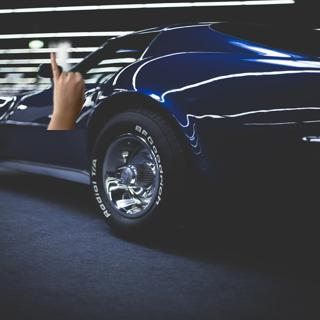FINE: (45, 51, 88, 118)
